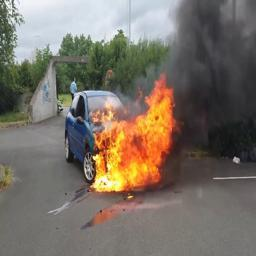fire: (90, 72, 179, 192)
